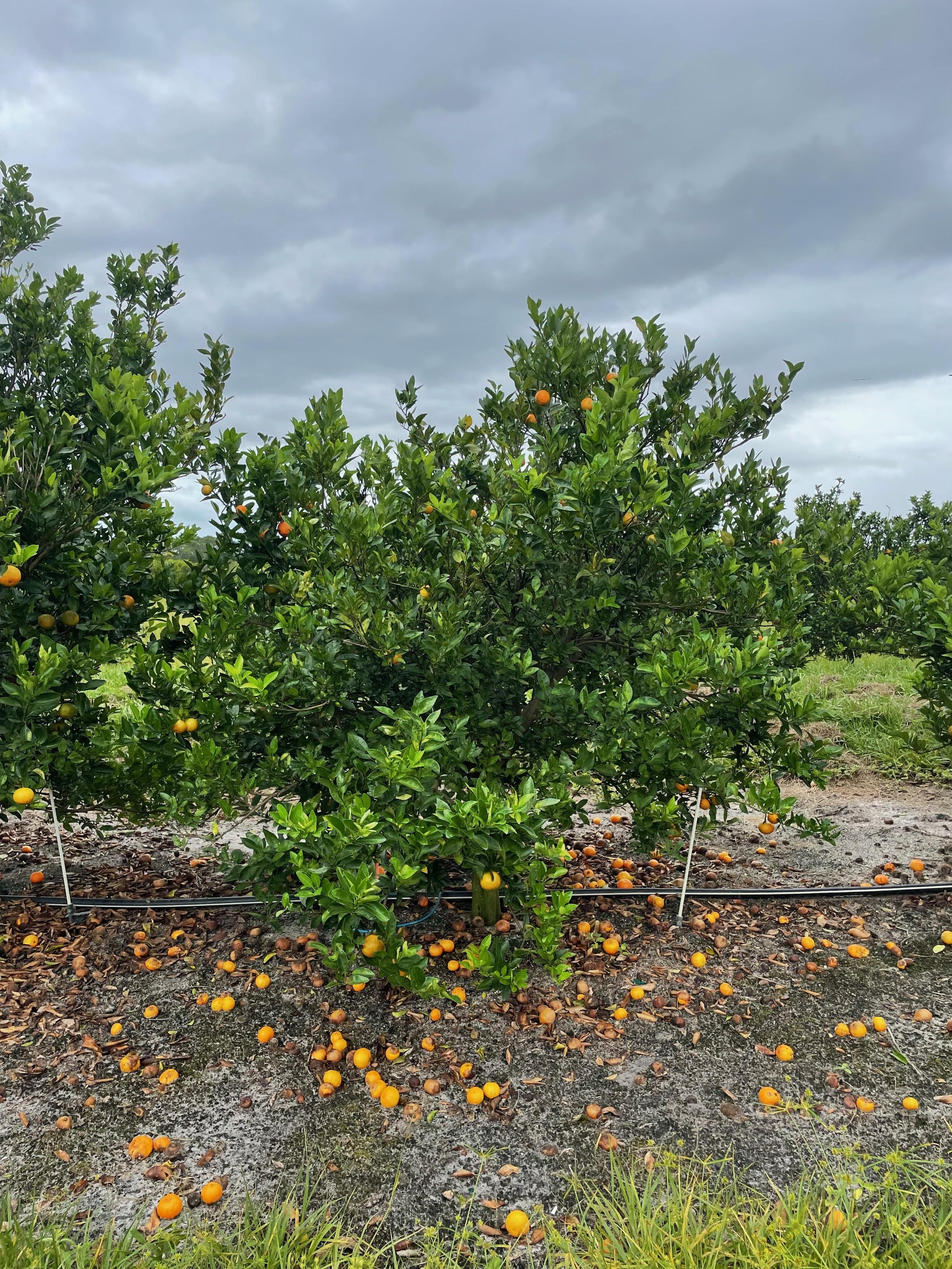fruit_on_ground: (378, 642, 407, 668), (360, 934, 387, 960), (0, 562, 23, 589), (478, 868, 503, 892), (10, 784, 36, 806), (131, 488, 154, 512), (58, 607, 82, 629), (115, 592, 138, 613), (57, 699, 79, 720), (35, 611, 57, 632), (619, 508, 640, 529), (532, 387, 553, 407), (416, 581, 436, 601), (757, 818, 776, 837), (182, 715, 201, 734), (578, 394, 597, 413), (262, 579, 282, 597), (672, 776, 692, 794), (170, 717, 188, 736), (276, 519, 294, 538), (255, 525, 273, 543), (603, 367, 621, 385), (522, 410, 540, 428), (765, 809, 783, 826), (233, 502, 251, 519), (644, 530, 661, 547), (707, 792, 723, 808), (697, 795, 712, 811), (199, 482, 214, 498), (769, 536, 785, 551), (684, 677, 700, 692), (422, 501, 436, 516), (466, 507, 480, 520)
fruit_on_tree: (502, 1208, 531, 1238), (156, 1192, 184, 1220), (824, 1207, 851, 1234), (127, 1134, 154, 1159), (198, 1180, 224, 1205), (757, 1085, 782, 1108), (119, 1051, 142, 1073), (597, 1131, 620, 1152), (401, 1103, 423, 1124), (380, 1084, 401, 1106), (464, 1085, 485, 1106), (481, 1079, 502, 1100), (774, 1042, 795, 1063), (352, 1047, 372, 1068), (158, 1066, 180, 1085), (687, 949, 707, 969), (537, 1005, 556, 1026), (368, 1079, 387, 1099), (602, 935, 621, 955), (457, 1060, 478, 1078), (70, 954, 89, 973), (424, 1077, 443, 1096), (585, 1101, 604, 1120), (256, 1024, 275, 1043), (152, 1134, 172, 1152), (448, 985, 468, 1003), (855, 1094, 875, 1112), (912, 1006, 933, 1023), (322, 1067, 341, 1085), (849, 1019, 867, 1038), (219, 995, 238, 1013), (572, 977, 590, 995), (142, 1061, 161, 1078), (324, 1047, 343, 1064), (901, 1094, 920, 1111), (365, 1068, 384, 1085), (301, 931, 321, 947), (328, 1007, 348, 1023), (713, 933, 731, 950), (55, 1113, 73, 1130), (309, 1044, 327, 1061), (383, 1044, 401, 1061), (253, 972, 271, 989), (597, 919, 616, 935), (847, 942, 866, 958), (646, 892, 665, 908), (217, 959, 237, 974), (628, 985, 645, 1002), (420, 1035, 437, 1052), (908, 856, 925, 873), (574, 919, 592, 935), (21, 931, 39, 947), (274, 935, 292, 951), (534, 1001, 551, 1017), (317, 1082, 334, 1098), (612, 1005, 629, 1021), (494, 918, 511, 934), (143, 1002, 160, 1018), (209, 996, 226, 1012), (871, 1015, 887, 1032), (834, 1020, 850, 1037), (145, 956, 163, 971), (616, 877, 634, 892), (331, 1037, 349, 1052), (292, 933, 308, 949), (450, 916, 466, 932), (427, 1006, 443, 1022), (800, 935, 816, 951), (458, 958, 475, 973), (290, 956, 307, 971), (652, 994, 669, 1009), (350, 977, 367, 992), (444, 958, 461, 973), (439, 936, 456, 951), (676, 989, 691, 1005), (427, 941, 443, 956), (719, 980, 734, 996), (328, 1030, 345, 1044), (137, 851, 154, 865), (29, 869, 46, 883), (848, 925, 866, 938), (939, 927, 952, 945), (415, 893, 430, 908), (109, 1020, 124, 1035), (73, 965, 89, 979), (395, 925, 411, 939), (133, 944, 149, 958), (131, 928, 147, 942), (615, 869, 632, 882), (423, 930, 438, 944), (310, 973, 325, 987), (549, 997, 564, 1011), (231, 937, 245, 952), (195, 991, 210, 1005), (874, 872, 889, 886), (304, 928, 320, 941), (703, 911, 717, 925), (170, 927, 185, 940), (415, 946, 430, 959), (247, 924, 262, 937), (622, 857, 637, 870), (166, 945, 181, 958), (716, 848, 731, 861), (703, 870, 719, 882), (203, 918, 219, 930), (187, 857, 203, 869), (610, 856, 624, 869), (601, 1027, 616, 1039), (794, 904, 809, 916), (671, 1015, 686, 1027), (461, 879, 474, 892), (805, 958, 818, 971), (649, 848, 663, 860), (896, 958, 910, 970), (581, 869, 595, 881), (152, 876, 166, 888), (595, 837, 609, 849), (19, 843, 33, 855), (565, 849, 579, 861), (703, 847, 717, 859), (820, 937, 834, 949), (609, 811, 623, 823), (884, 940, 898, 952), (319, 998, 332, 1010), (777, 913, 790, 925), (883, 860, 896, 872), (583, 844, 596, 856), (424, 852, 436, 864), (602, 829, 614, 841), (826, 956, 838, 968), (591, 816, 604, 827), (755, 843, 768, 854), (595, 877, 607, 888), (647, 857, 660, 867), (573, 879, 586, 889), (860, 881, 873, 891), (587, 879, 600, 889), (572, 871, 585, 881), (709, 910, 721, 920), (723, 854, 733, 864)
